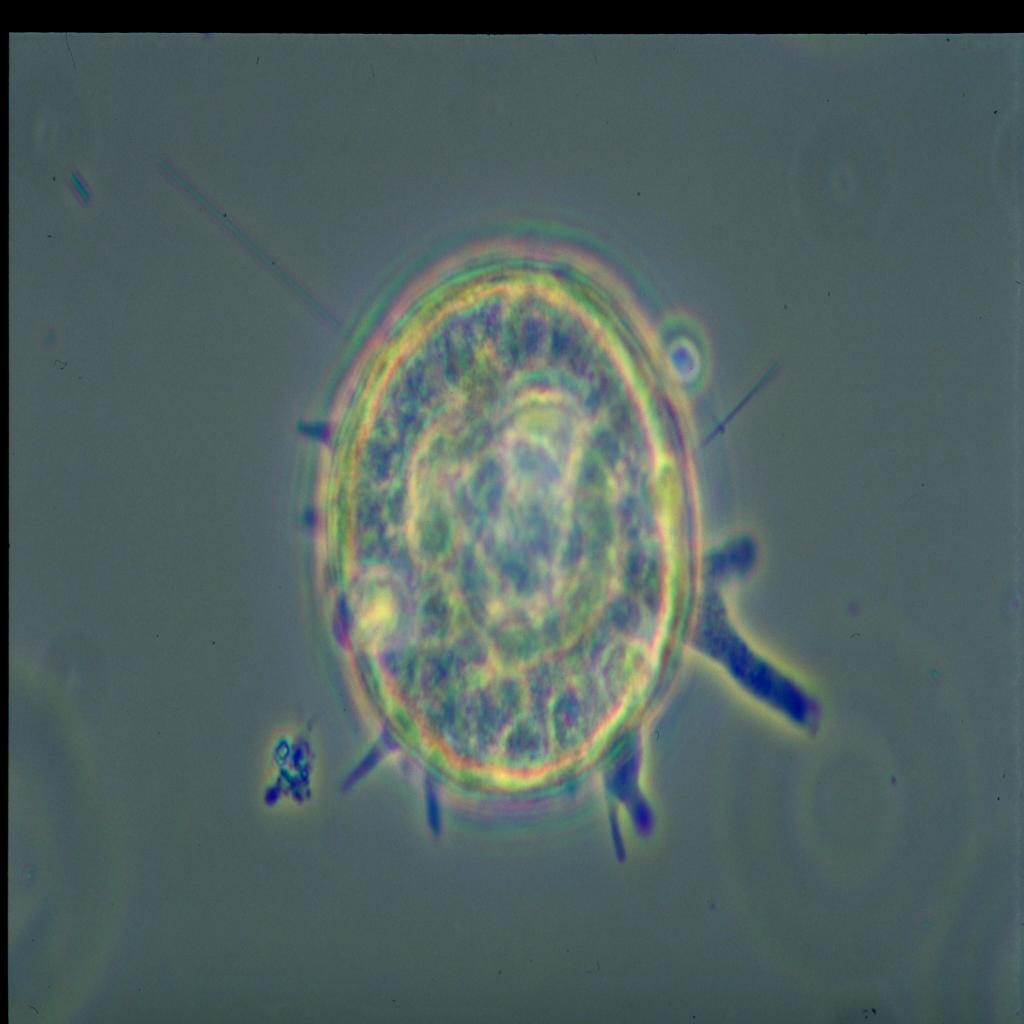Arcella: (266, 218, 809, 862)
